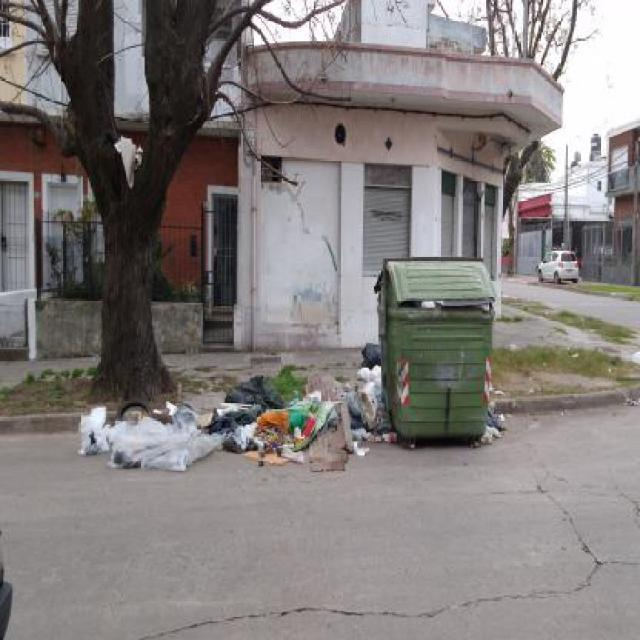garbage: (85, 363, 388, 469)
